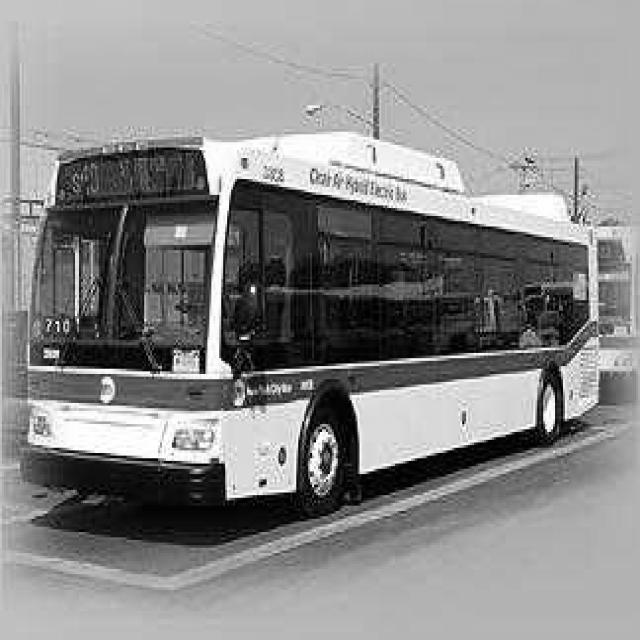Bus: (29, 133, 598, 511)
